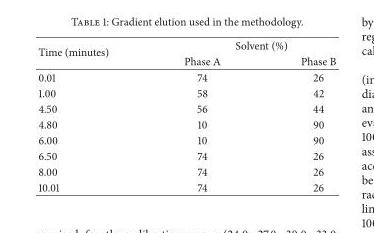table: (37, 37, 335, 194)
table column: (145, 37, 259, 194), (37, 37, 145, 194), (259, 37, 335, 194)
table column header: (37, 37, 335, 68)
table row: (37, 52, 335, 68), (37, 68, 335, 84), (37, 84, 335, 100), (37, 100, 335, 116), (37, 131, 335, 147), (37, 147, 335, 163), (37, 163, 335, 179), (37, 37, 335, 52), (37, 116, 335, 131), (37, 179, 335, 194)
table spanning cell: (37, 37, 145, 68), (145, 37, 335, 52)
